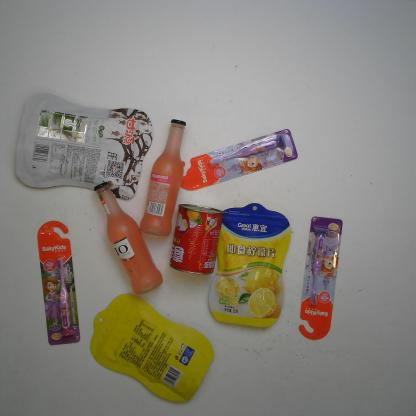Alcohol: (91, 180, 164, 299), (138, 115, 186, 239)
Canned Food: (167, 200, 225, 280)
Dried Fruit: (13, 92, 157, 201), (89, 292, 216, 405), (206, 200, 296, 332)
Personal Hygiene: (172, 124, 301, 195), (297, 215, 346, 342), (36, 218, 84, 347)
